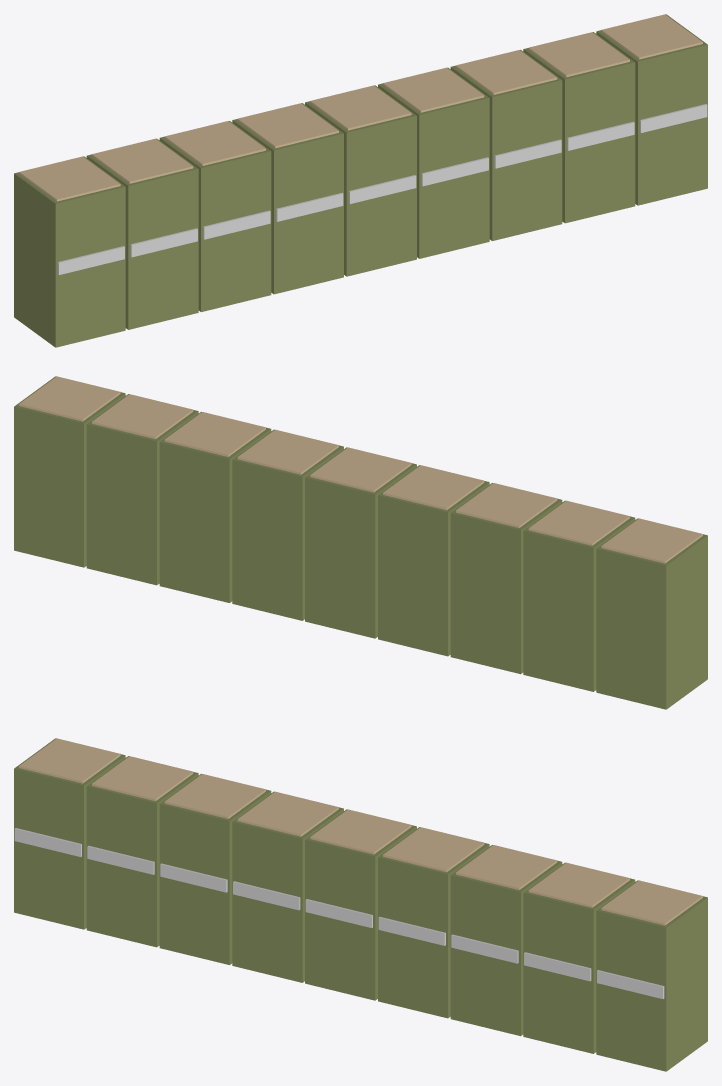
File: SM_MuroHesco_v0_MallaLimpia_e0_Sano_LOD1.fbx
3 views of the same model, one above another, from view 1: azimuth 30°, elevation 25°; view 2: azimuth 150°, elevation 25°; view 3: azimuth 330°, elevation 25° (orthographic).
Parts seen in each view (by area): view 1: SM_bloques.muro_hesco_estados_v0_LOD1; view 2: SM_bloques.muro_hesco_estados_v0_LOD1; view 3: SM_bloques.muro_hesco_estados_v0_LOD1.
Part boxes in pixels (x1,y1,x2,y2): SM_bloques.muro_hesco_estados_v0_LOD1: [14, 14, 707, 347]; SM_bloques.muro_hesco_estados_v0_LOD1: [14, 376, 707, 709]; SM_bloques.muro_hesco_estados_v0_LOD1: [14, 738, 707, 1071].
Bounding box in the file's own units: 9.96 × 2.13 × 1.13.
